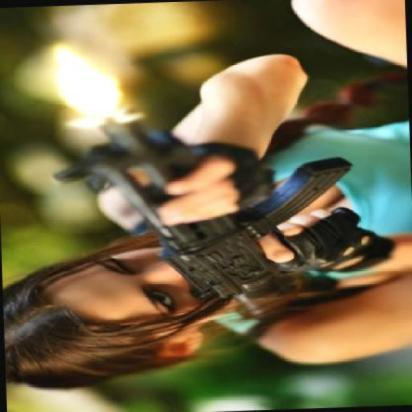Gun: (50, 103, 362, 323)
